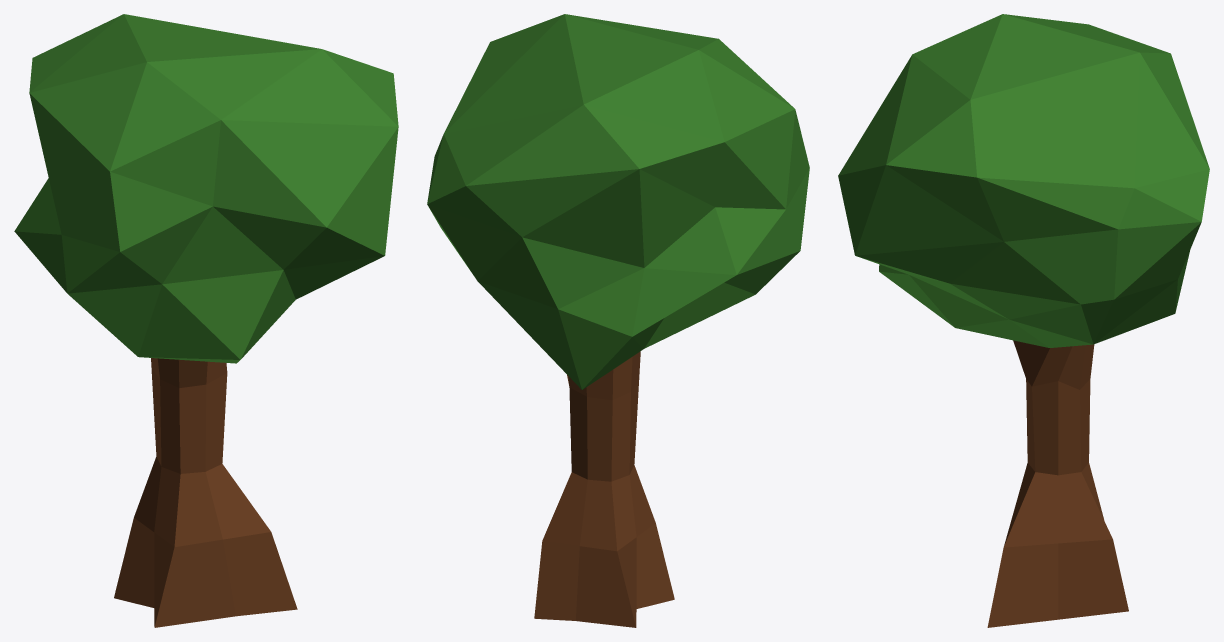
Rendered from tree2.fbx.
3 views of the same model, side by side, from view 1: azimuth 30°, elevation 25°; view 2: azimuth 150°, elevation 25°; view 3: azimuth 270°, elevation 25° (orthographic). The views are drawn at different scales.
Parts seen in each view (by area): view 1: Cube; view 2: Cube; view 3: Cube.
Boxes of the visible parts, x1,y1,x2,y2 form: Cube: [14, 14, 398, 627]; Cube: [427, 14, 809, 627]; Cube: [838, 14, 1209, 627].
Size of the model in its own units: 7541 by 12715 by 7821.
